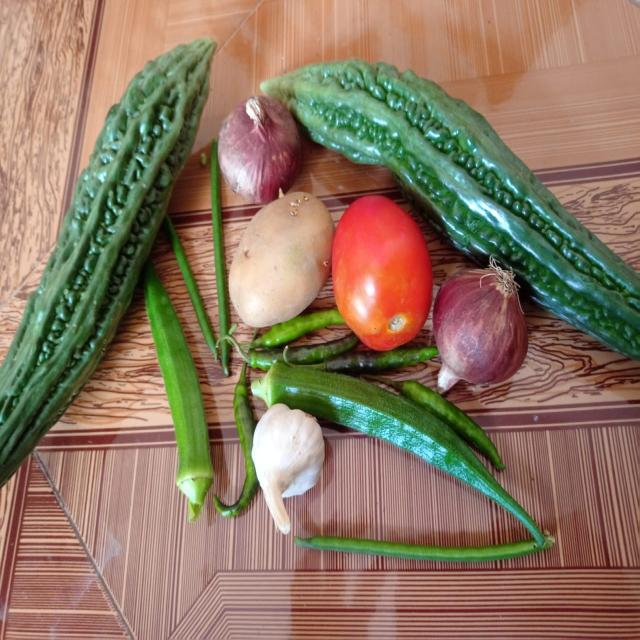Organik: (60, 48, 184, 345), (306, 64, 544, 196), (331, 193, 434, 350), (144, 283, 212, 515), (230, 190, 334, 326), (435, 265, 532, 396), (258, 356, 438, 420), (252, 410, 328, 532), (216, 99, 301, 201), (294, 533, 544, 565), (203, 137, 230, 366)
